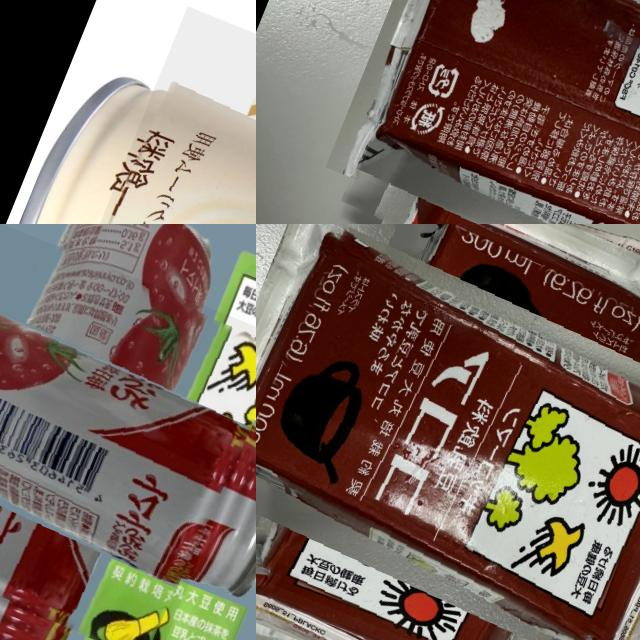Aluminium Foil: (256, 224, 640, 640), (49, 233, 256, 640), (339, 0, 640, 224)
Can: (0, 224, 256, 640), (10, 5, 256, 224)
